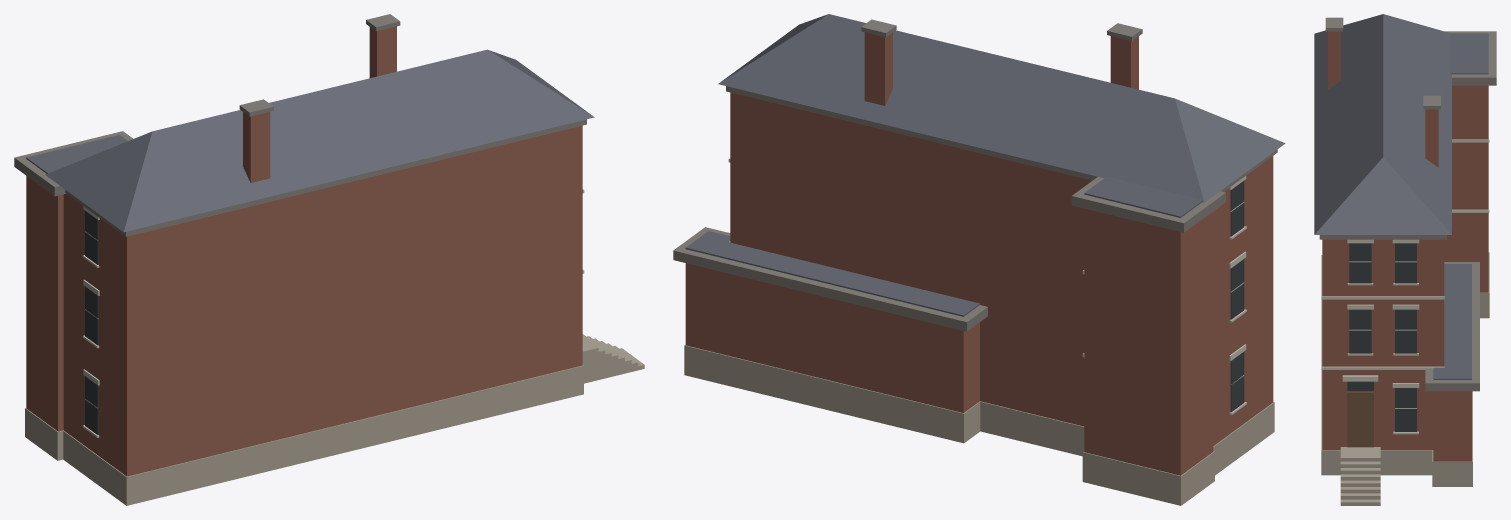
Rendered from house_2013_indiana__draft_1904.glb.
The picture shows the model from 3 angles, left to right: view 1: azimuth 30°, elevation 25°; view 2: azimuth 150°, elevation 25°; view 3: azimuth 270°, elevation 25°; orthographic projection. The views are drawn at different scales.
Visible parts, largest first — view 1: house_2013_indiana__draft_1904; view 2: house_2013_indiana__draft_1904; view 3: house_2013_indiana__draft_1904.
Boxes of the visible parts, x1,y1,x2,y2 form: house_2013_indiana__draft_1904: (14,14,644,505); house_2013_indiana__draft_1904: (673,14,1285,505); house_2013_indiana__draft_1904: (1314,14,1496,505).
Size of the model in its own units: 24.65 by 15.7 by 8.2.
